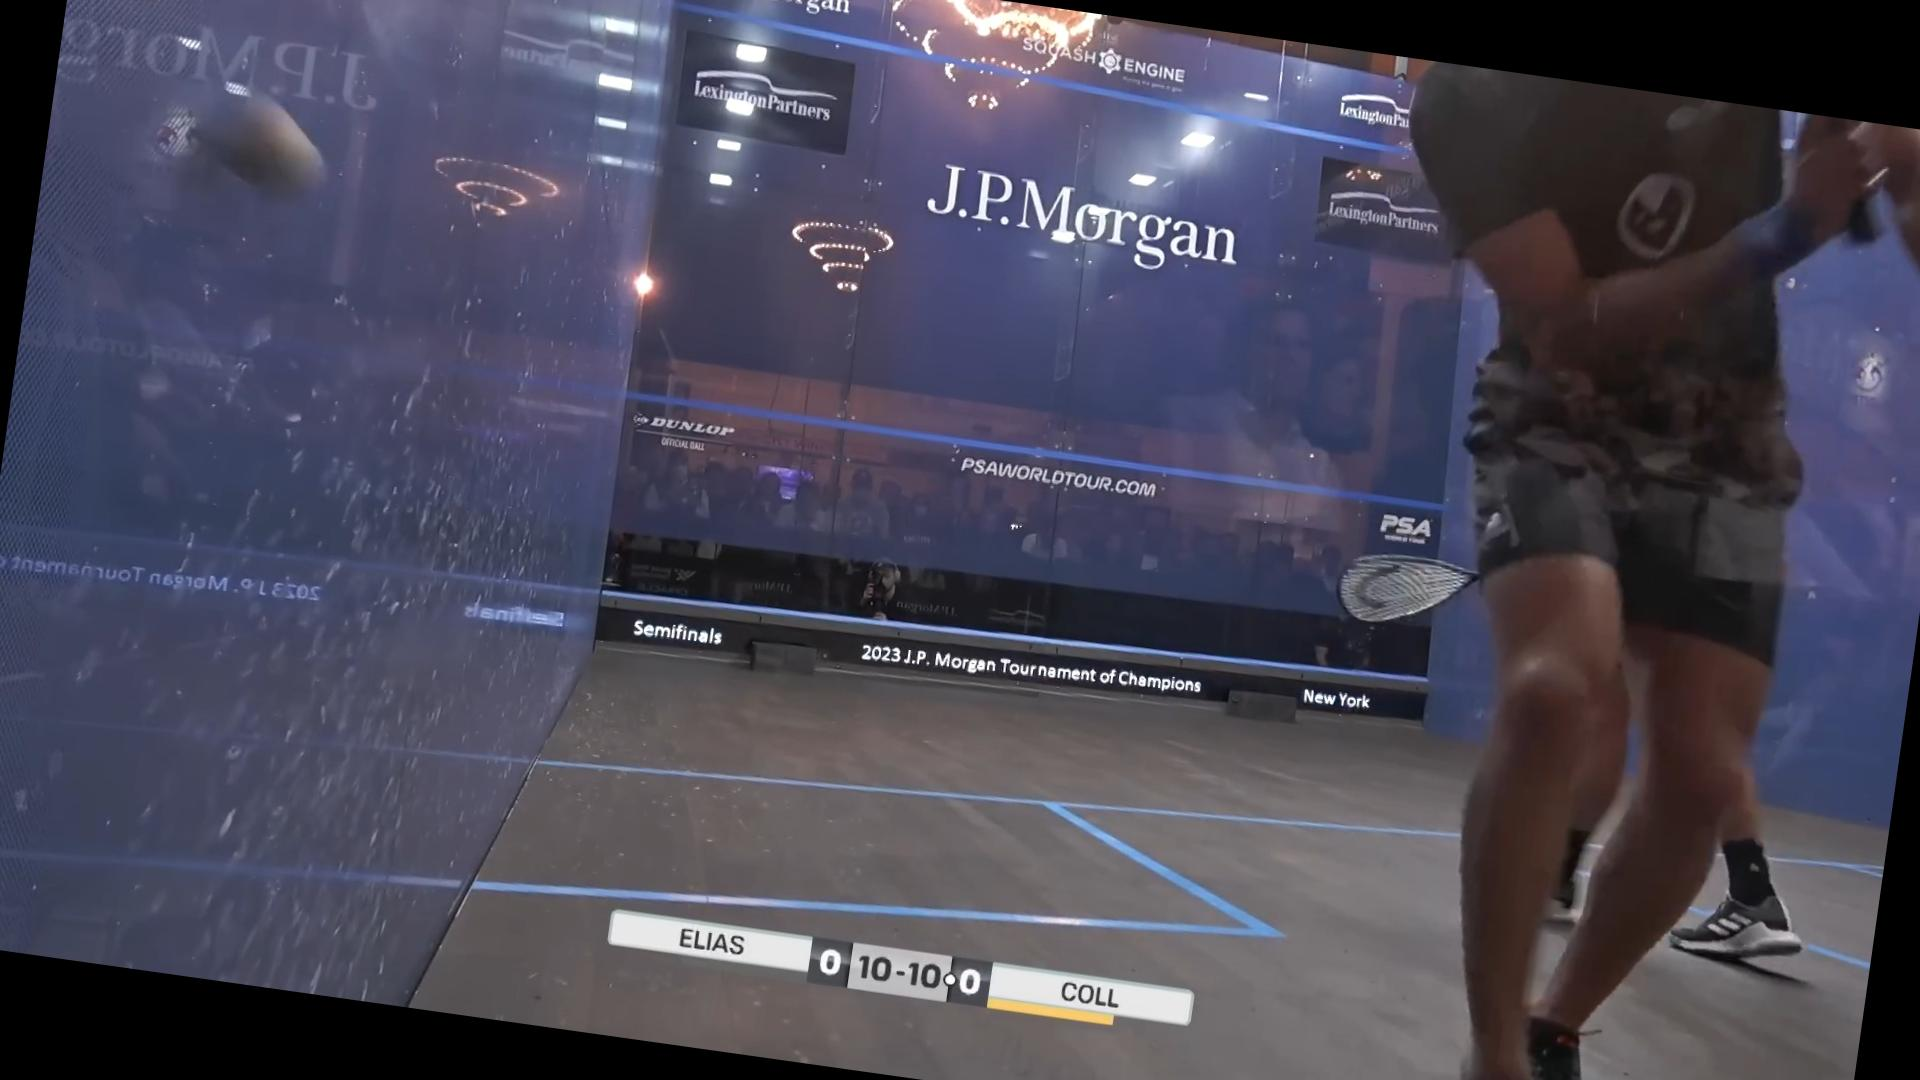Racket: (1324, 535, 1482, 641)
